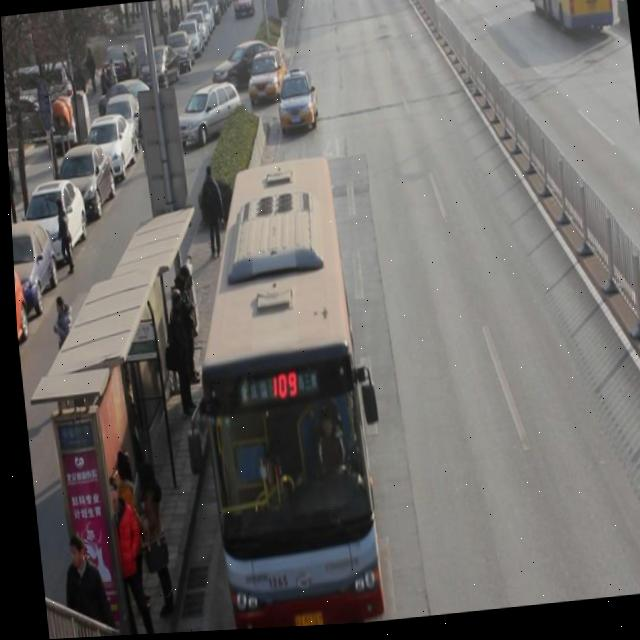car: (274, 71, 319, 138), (245, 51, 289, 110)
van: (177, 159, 374, 628), (525, 0, 613, 50)
